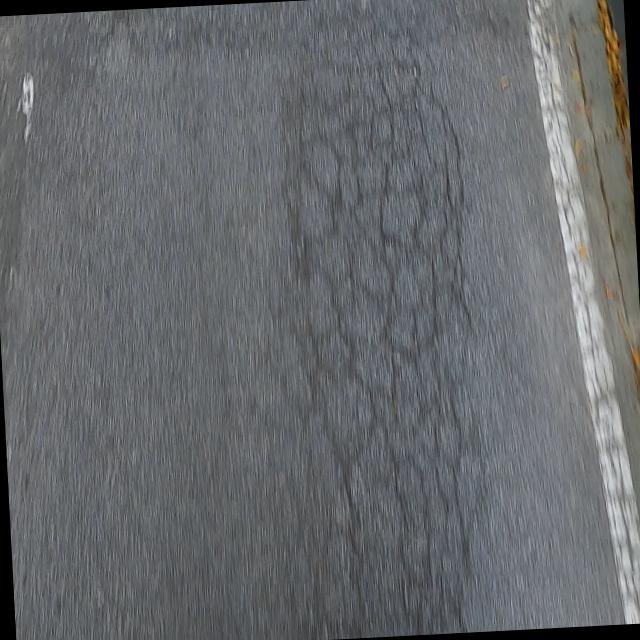Retak-Buaya: (287, 19, 475, 633)
